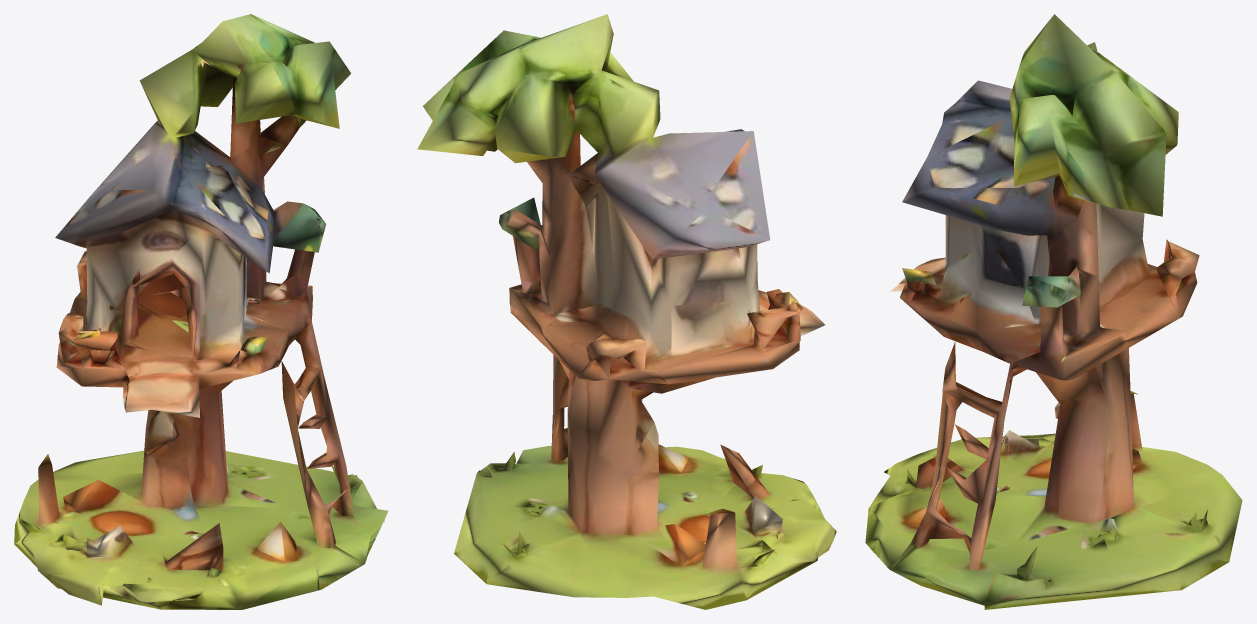
The model's file is house_treehouse.glb.
3 views of the same model, side by side, from view 1: azimuth 30°, elevation 25°; view 2: azimuth 150°, elevation 25°; view 3: azimuth 270°, elevation 25° (orthographic). The views are drawn at different scales.
Parts seen in each view (by area): view 1: tripo_node_e439f103-6080-46a6-9705-b931770f2f87; view 2: tripo_node_e439f103-6080-46a6-9705-b931770f2f87; view 3: tripo_node_e439f103-6080-46a6-9705-b931770f2f87.
Part boxes in pixels (x1,y1,x2,y2): tripo_node_e439f103-6080-46a6-9705-b931770f2f87: [14, 14, 388, 609]; tripo_node_e439f103-6080-46a6-9705-b931770f2f87: [417, 14, 836, 609]; tripo_node_e439f103-6080-46a6-9705-b931770f2f87: [865, 14, 1242, 609].
Bounding box in the file's own units: 0.6881 × 0.9592 × 0.6182.
1 material, 1 textured.
